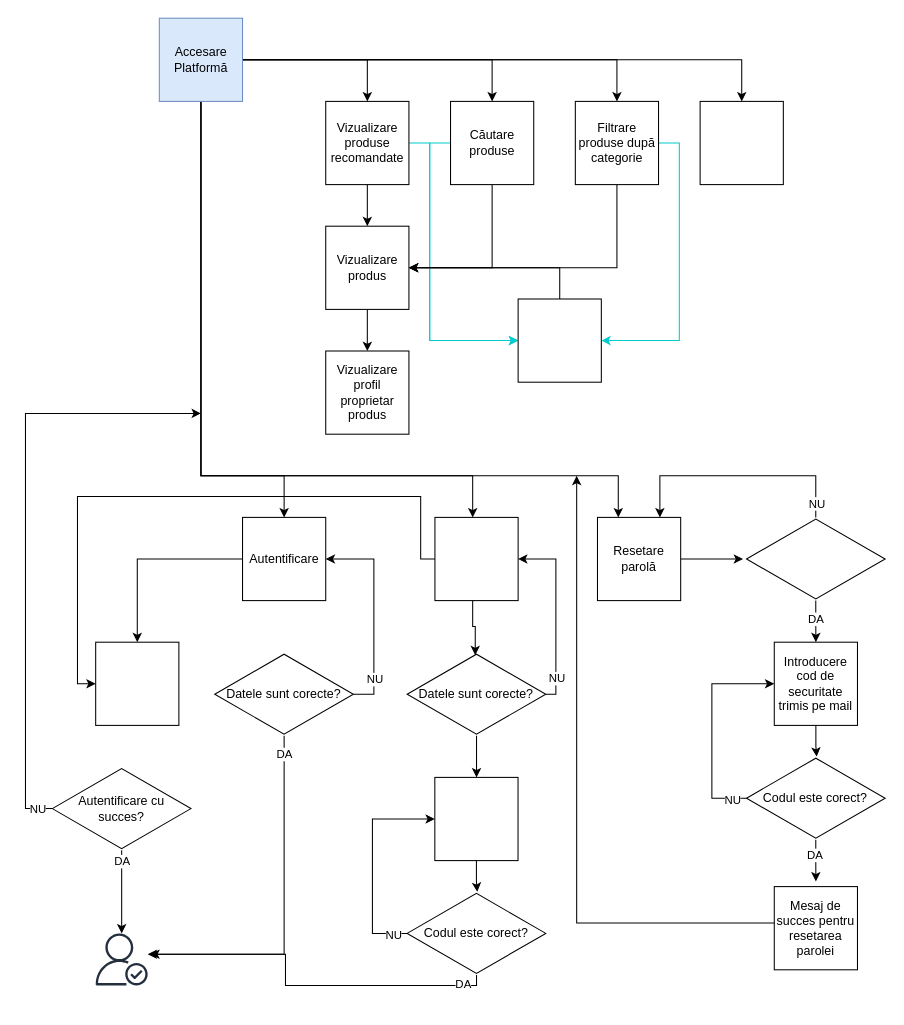
Image size: 904x1025. Some labels were removed from this diagram. Here are the shapes that lost their labels. From the top down, the centre of each, then its label:
At (741,142): "Contact echipa de suport prin ChatBot".
At (559,340): "Aplicare criteriu de sortare produse".
At (476,558): "Înregistrare".
At (815,558): "Email-ul aparține unui utilizator?".
At (137,683): "Autentificare Oauth2 cu Google".
At (476,818): "Introducere code de securitate trimis pe mail".
At (121,959): "Devenire utilizator autentificat".
